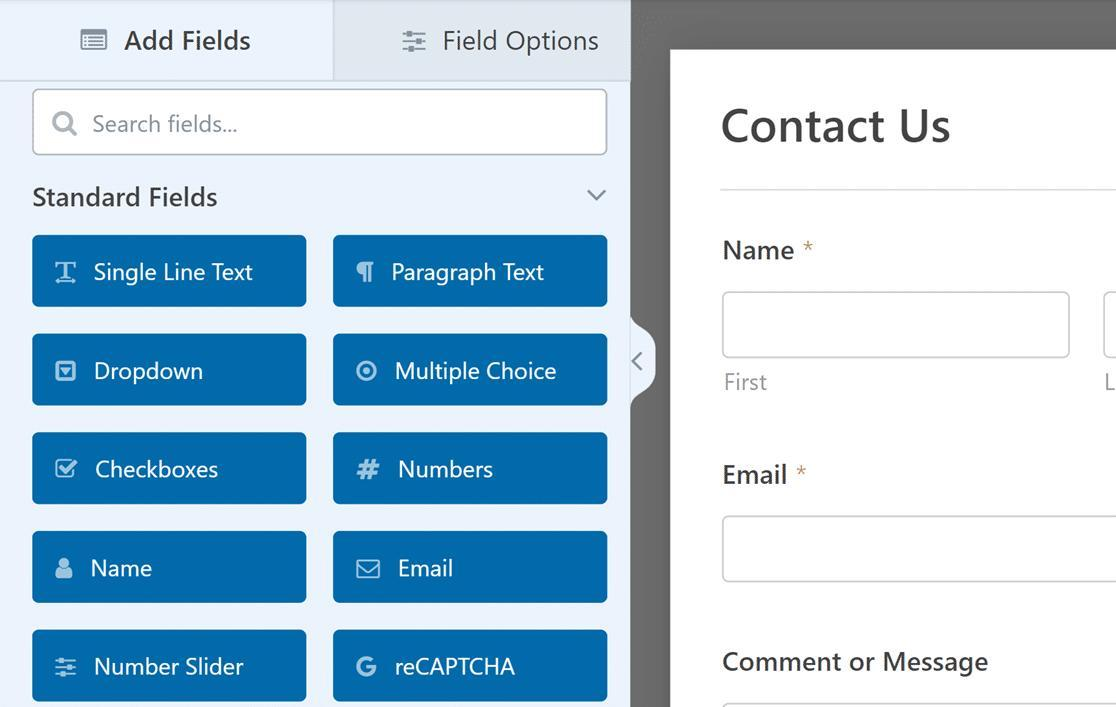checkbox: (52, 455, 82, 478)
icon: (77, 24, 111, 56), (49, 655, 81, 682), (399, 29, 432, 55), (353, 558, 386, 581), (56, 260, 80, 287), (354, 458, 380, 480), (55, 360, 78, 384), (357, 656, 379, 680), (357, 259, 375, 286), (56, 559, 75, 581)
input: (32, 89, 607, 155), (725, 516, 1116, 581), (723, 292, 1072, 358)
label: (724, 111, 954, 148), (723, 645, 986, 677), (393, 352, 560, 391), (93, 256, 263, 293), (389, 252, 548, 287), (445, 25, 602, 60), (91, 652, 251, 685), (127, 22, 253, 62), (37, 182, 226, 208), (92, 261, 257, 288), (392, 452, 500, 484), (92, 358, 213, 386), (92, 456, 226, 481), (392, 655, 519, 679), (724, 461, 806, 490), (89, 553, 161, 583), (723, 237, 813, 261), (395, 553, 463, 582)
radio: (357, 361, 381, 385)
